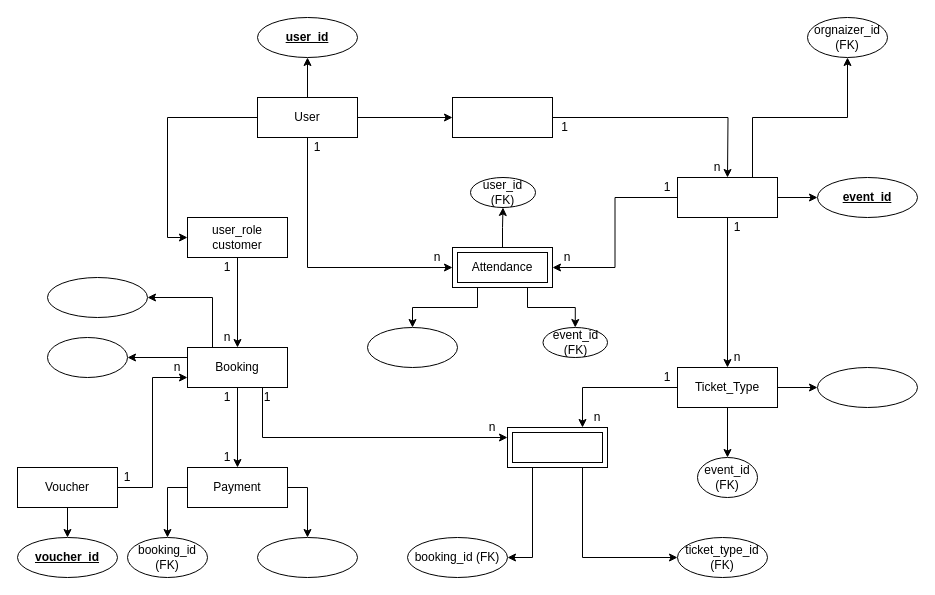
Some shapes in this 935 by 595 pixel diagram are drawn without their labels. Each missing label, with the box of its shape:
booking_id: (46, 276, 148, 318)
BookingDetail: (506, 426, 608, 468)
Event: (676, 176, 778, 218)
payment_id: (256, 536, 358, 578)
ticket_type_id: (816, 366, 918, 408)
user_id, event_id: (366, 326, 458, 368)
user_role organizer: (452, 96, 552, 138)
voucher_id (FK): (46, 336, 128, 378)
